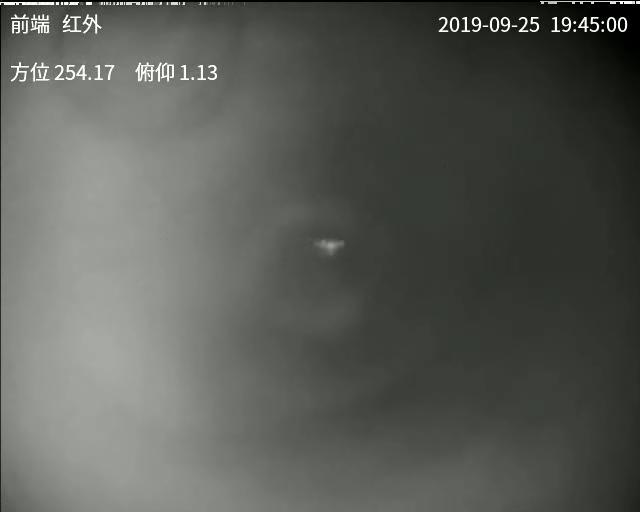uav: (311, 235, 348, 261)
